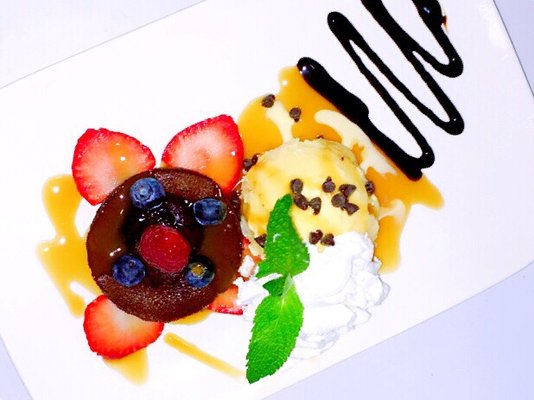sandwich: (325, 10, 459, 170), (295, 53, 434, 182), (411, 0, 464, 79)
